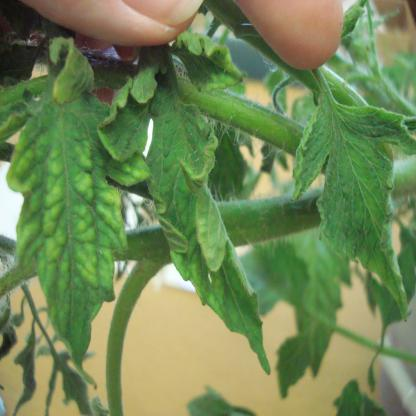tomato leaf mosaic virus: (100, 72, 272, 375), (4, 70, 141, 362), (289, 95, 407, 317)
